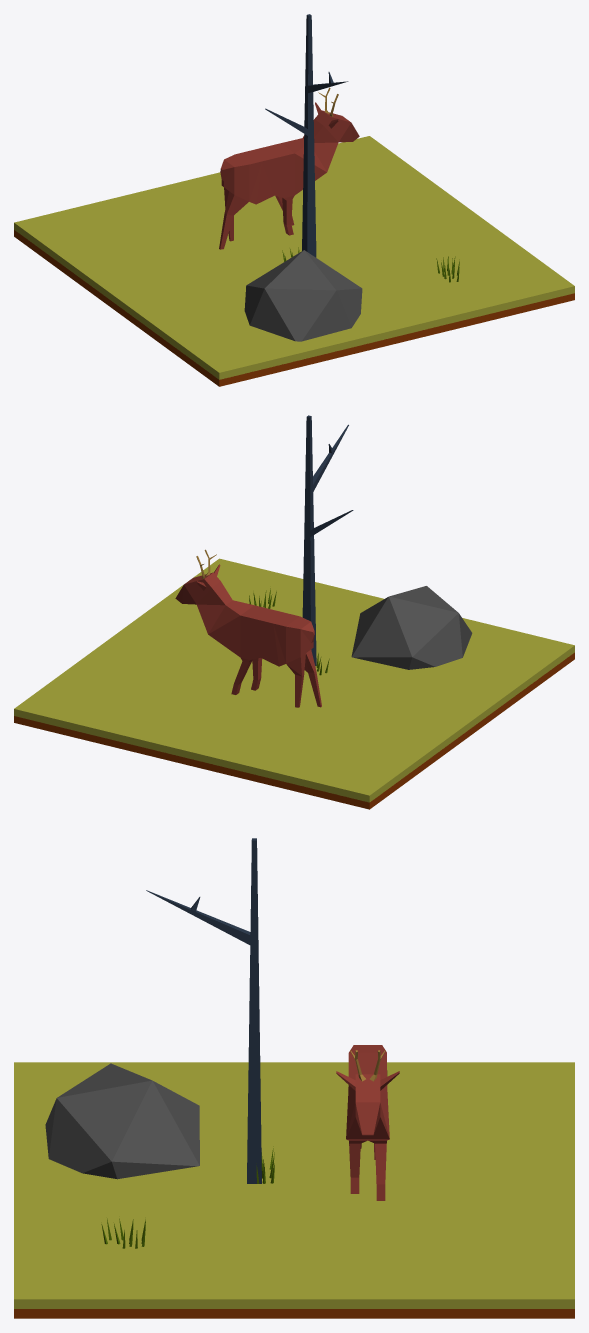
File: Deer.dae
3 views of the same model, one above another, from view 1: azimuth 30°, elevation 25°; view 2: azimuth 150°, elevation 25°; view 3: azimuth 270°, elevation 25° (orthographic). The views are drawn at different scales.
Parts seen in each view (by area): view 1: Deer; view 2: Deer; view 3: Deer.
Part boxes in pixels (left/top/right/bottom): Deer: left=14, top=14, right=574, bottom=386; Deer: left=14, top=415, right=574, bottom=809; Deer: left=14, top=838, right=574, bottom=1318.
Size of the model in its own units: 0.6 by 0.6 by 0.5457.
